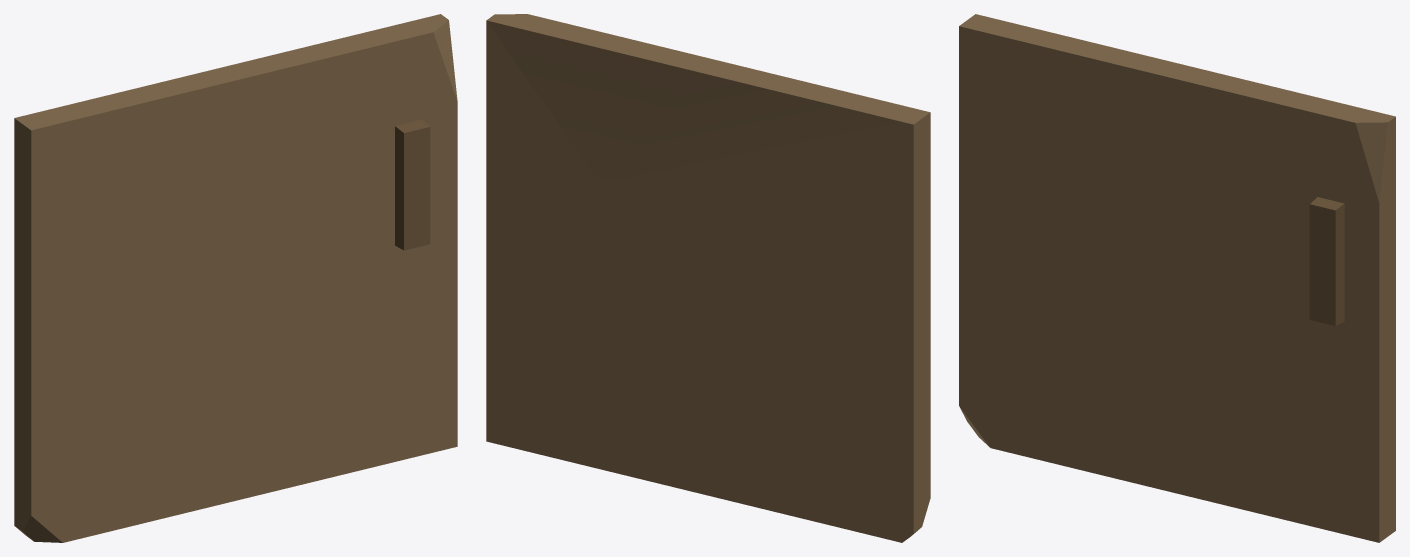
The model's file is kingdom_SM_Prop_Cabinet_Stackable_02_Door_1.gltf.
The picture shows the model from 3 angles, left to right: view 1: azimuth 30°, elevation 25°; view 2: azimuth 150°, elevation 25°; view 3: azimuth 330°, elevation 25°; orthographic projection.
Visible parts, largest first — view 1: SM_Prop_Cabinet_Stackable_02_Door_1; view 2: SM_Prop_Cabinet_Stackable_02_Door_1; view 3: SM_Prop_Cabinet_Stackable_02_Door_1.
Boxes of the visible parts, x1=… form: SM_Prop_Cabinet_Stackable_02_Door_1: x1=14, y1=14, x2=457, y2=542; SM_Prop_Cabinet_Stackable_02_Door_1: x1=486, y1=14, x2=930, y2=542; SM_Prop_Cabinet_Stackable_02_Door_1: x1=959, y1=14, x2=1395, y2=542.
Bounding box in the file's own units: 0.7047 × 0.6636 × 0.0726.
1 material, 1 textured.
